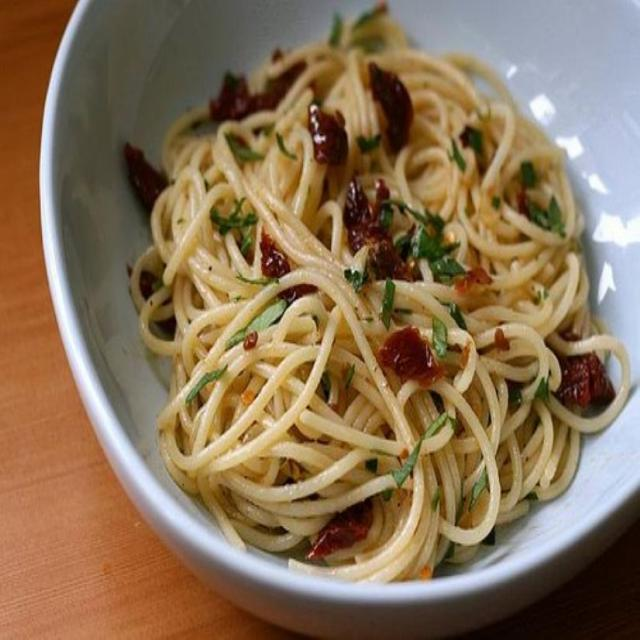Oil pasta: (142, 14, 612, 558)
